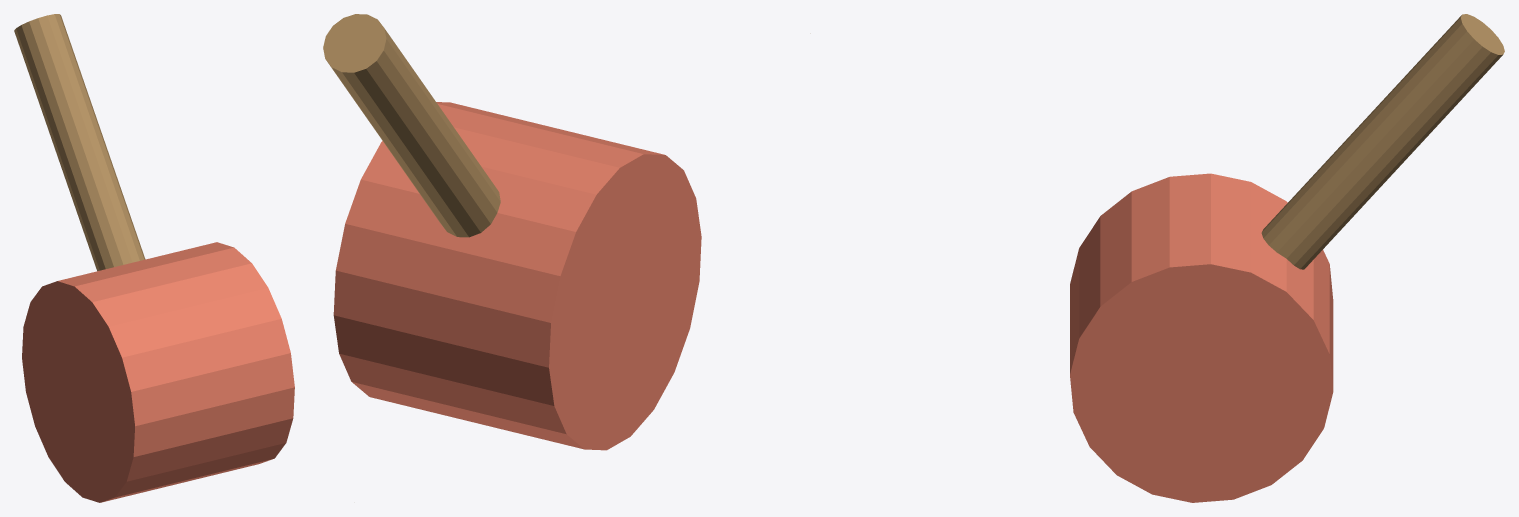
The model's file is mallet_atari_3d.glb.
The picture shows the model from 3 angles, left to right: view 1: azimuth 30°, elevation 25°; view 2: azimuth 150°, elevation 25°; view 3: azimuth 270°, elevation 25°; orthographic projection. The views are drawn at different scales.
Visible parts, largest first — view 1: mallet_head, mallet_handle; view 2: mallet_head, mallet_handle; view 3: mallet_head, mallet_handle.
Part boxes in pixels (x1,y1,x2,y2): mallet_head: (22,242,294,502); mallet_handle: (14,14,145,271); mallet_head: (333,102,701,450); mallet_handle: (323,14,500,237); mallet_head: (1070,173,1333,502); mallet_handle: (1261,14,1504,269).
Size of the model in its own units: 0.26 by 0.5881 by 0.8068.
